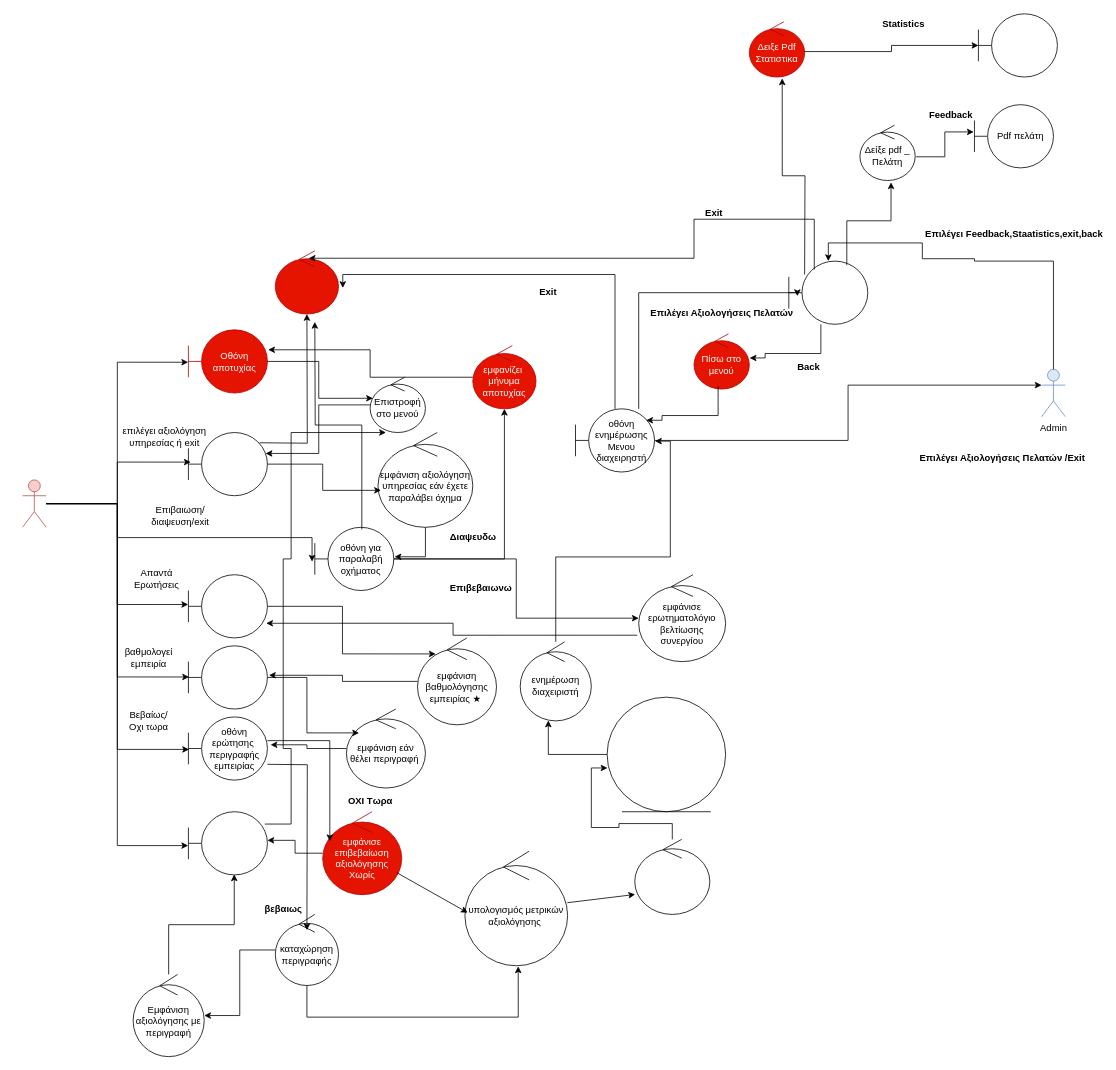
The diagram is 1116 pixels wide and 1070 high, and some of its shapes have lost their labels. The shapes that lost their labels are listed below. From the top down, each one's box as (x1, y1, x2, y2) in pixels, then its label:
(978, 13, 1057, 77): Pdf Στατιστικα Πελατων
(275, 250, 339, 314): Close APP
(788, 260, 868, 324): Δεδομένα Πελατών
(188, 432, 267, 496): Μενού
(22, 479, 46, 527): Costumer
(188, 574, 267, 638): οθόνη ερωτήσεων
(188, 645, 267, 709): οθόνη βαθμολογίας εμπειρίας
(606, 696, 726, 812): ιστορικό συνεργίου ,JSONS
(188, 811, 267, 875): οθόνη επιβεβαίωσης αξιολόγησης
(634, 839, 710, 914): καταχώρηση αξιολόγησης
